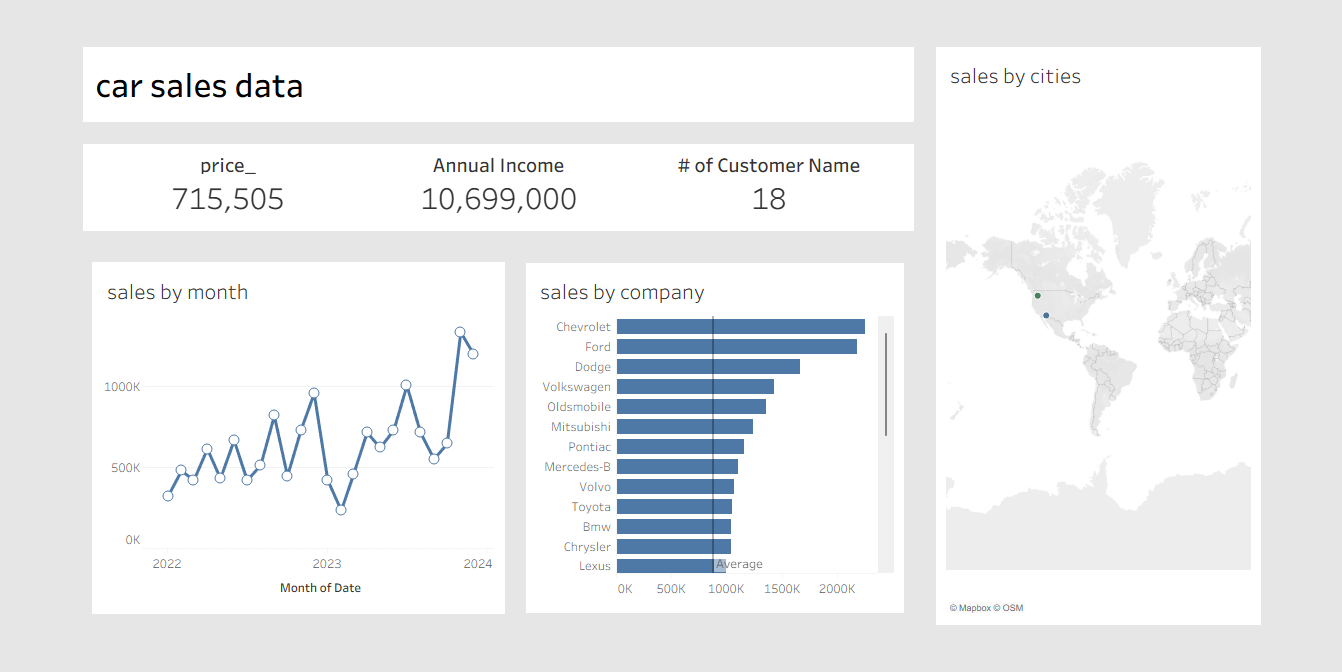

What the dashboard file says about the page in this screenshot:
{"tool":"tableau","page":{"name":"Dashboard 1","canvas":[1200,600],"ordinal":0},"visuals":[{"type":"text","box":[0,0,853,97]},{"type":"worksheet","title":"sales by cities","mark":"Multipolygon","box":[853,0,347,600]},{"type":"worksheet","title":"KPIs","mark":"Automatic","box":[0,97,853,109]},{"type":"worksheet","title":"sales by month","mark":"Line","rows":["price_","price_"],"cols":["date"],"box":[10,216,433,372]},{"type":"worksheet","title":"sales by company","mark":"Automatic","rows":["company"],"cols":["price_"],"box":[443,216,400,372]}]}

Visuals, with their boxes in screenshot pixels (x1, y1, x2, y2), scaled from the page's 1200x600 canvas onto the 1342x672 screenshot:
text: box=[0, 0, 954, 109]
"sales by cities" worksheet (Multipolygon marks): box=[954, 0, 1341, 671]
"KPIs" worksheet: box=[0, 109, 954, 231]
"sales by month" worksheet (Line marks): box=[11, 242, 495, 659]
"sales by company" worksheet: box=[495, 242, 943, 659]
